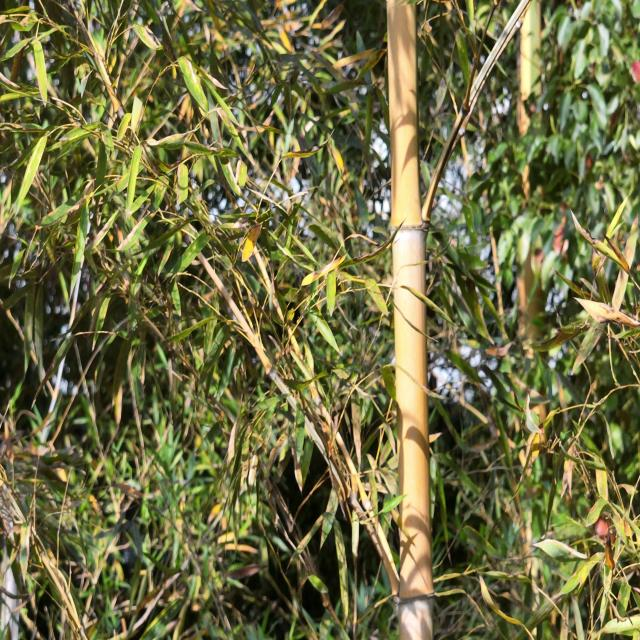Bamboo-shoots: (386, 0, 435, 640)
